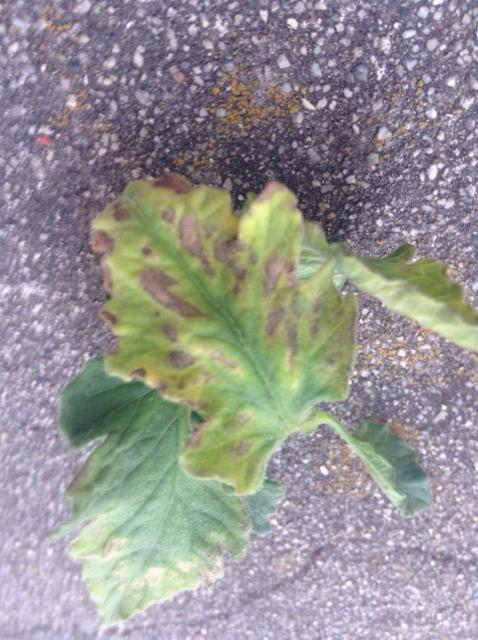Tomato mold leaf: (90, 149, 369, 493)
